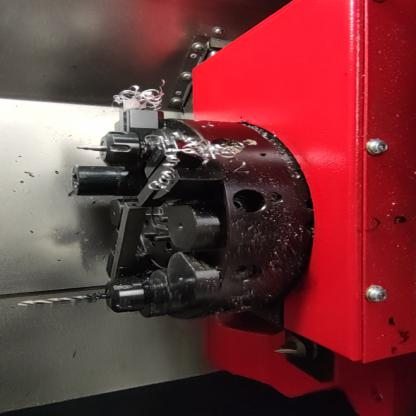bit: (131, 136, 227, 214), (98, 200, 152, 286), (105, 95, 167, 137)
